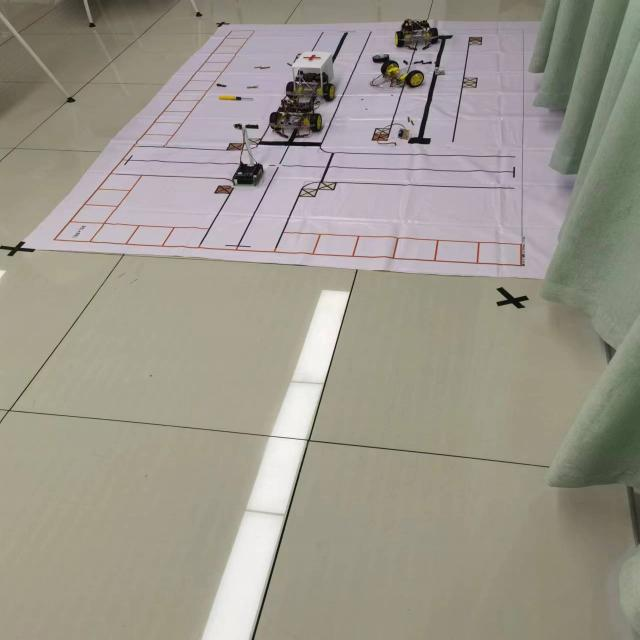RedCross: (302, 52, 322, 63)
